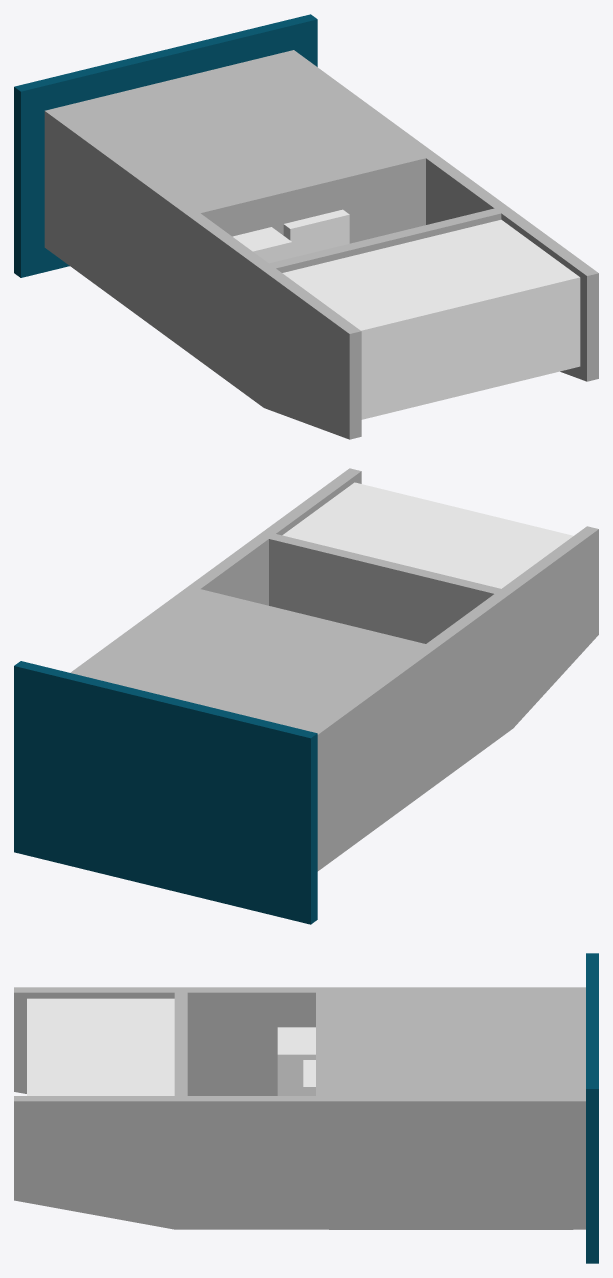
File: carm_part_1.dae
The picture shows the model from 3 angles, top to bottom: view 1: azimuth 30°, elevation 25°; view 2: azimuth 150°, elevation 25°; view 3: azimuth 270°, elevation 25°; orthographic projection. The views are drawn at different scales.
Visible parts, largest first — view 1: coords_ME_ID19_MA_Color_002, coords_ME_ID39_MA_Color_000, coords_ME_ID11_MA_material_21, coords_ME_ID27_MA_Color_002, coords_ME_ID53_MA_Color_000, coords_ME_ID3_MA_Color_000; view 2: coords_ME_ID19_MA_Color_002, coords_ME_ID11_MA_material_21, coords_ME_ID39_MA_Color_000, coords_ME_ID27_MA_Color_002; view 3: coords_ME_ID19_MA_Color_002, coords_ME_ID39_MA_Color_000, coords_ME_ID27_MA_Color_002, coords_ME_ID11_MA_material_21, coords_ME_ID3_MA_Color_000, coords_ME_ID53_MA_Color_000.
Boxes of the visible parts, x1,y1,x2,y2 form: coords_ME_ID19_MA_Color_002: [44, 50, 598, 439]; coords_ME_ID39_MA_Color_000: [282, 219, 580, 419]; coords_ME_ID11_MA_material_21: [14, 14, 317, 277]; coords_ME_ID27_MA_Color_002: [201, 158, 494, 243]; coords_ME_ID53_MA_Color_000: [283, 209, 349, 257]; coords_ME_ID3_MA_Color_000: [232, 227, 292, 263]; coords_ME_ID19_MA_Color_002: [70, 468, 598, 871]; coords_ME_ID11_MA_material_21: [14, 661, 317, 924]; coords_ME_ID39_MA_Color_000: [282, 482, 573, 588]; coords_ME_ID27_MA_Color_002: [201, 539, 493, 643]; coords_ME_ID19_MA_Color_002: [14, 987, 585, 1229]; coords_ME_ID39_MA_Color_000: [27, 998, 174, 1095]; coords_ME_ID27_MA_Color_002: [187, 992, 315, 1095]; coords_ME_ID11_MA_material_21: [586, 953, 598, 1263]; coords_ME_ID3_MA_Color_000: [277, 1027, 315, 1095]; coords_ME_ID53_MA_Color_000: [303, 1060, 315, 1095].
Size of the model in its own units: 8.86 by 5.31 by 16.12.
